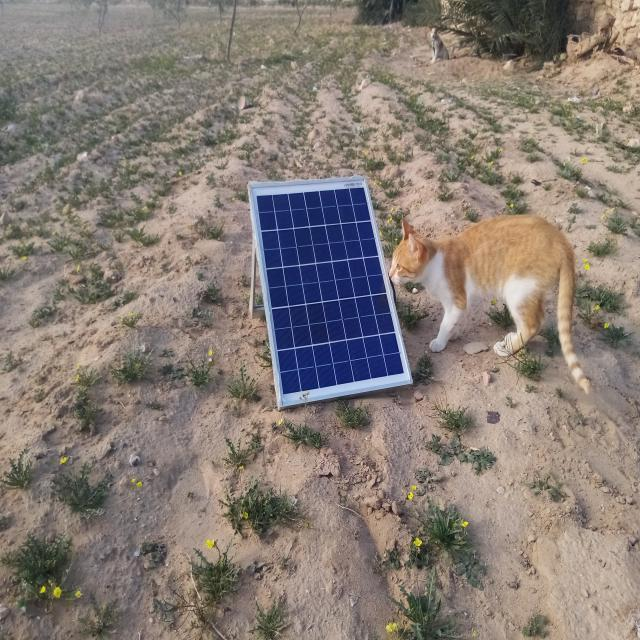Normal Solar Panel: (249, 177, 413, 406)
